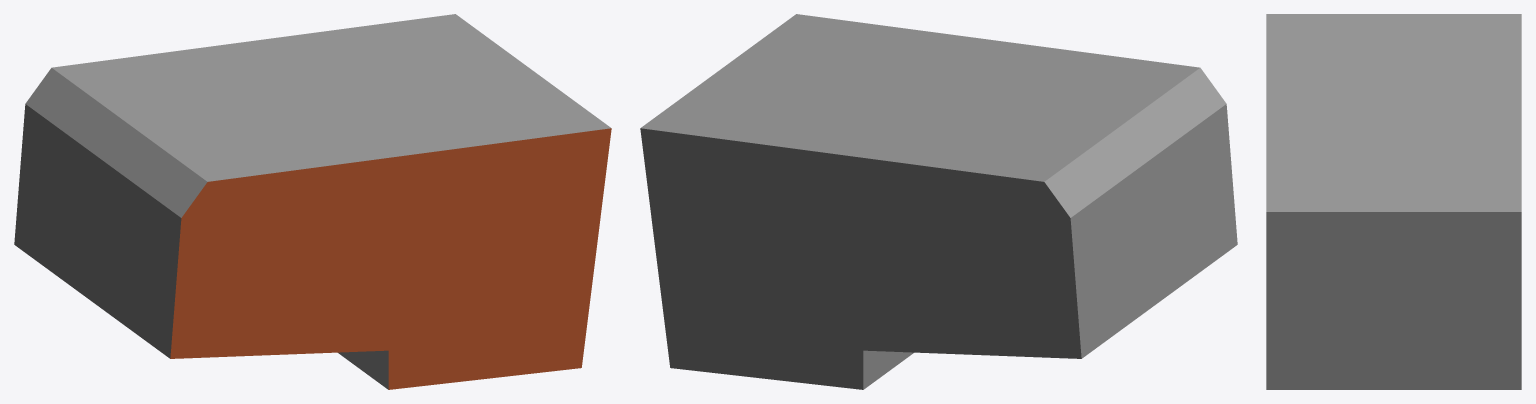
Rendered from construction_7181_assumed_A_Ruinas_h6m.obj.
3 renders of one model, left to right at view 1: azimuth 30°, elevation 25°; view 2: azimuth 150°, elevation 25°; view 3: azimuth 270°, elevation 25°, orthographic. The views are drawn at different scales.
Visible parts, largest first — view 1: construction_7181_assumed_A_Ruinas; view 2: construction_7181_assumed_A_Ruinas; view 3: construction_7181_assumed_A_Ruinas.
Part boxes in pixels (box(x1,y1,x2,y2)): construction_7181_assumed_A_Ruinas: box(14, 14, 611, 389); construction_7181_assumed_A_Ruinas: box(640, 14, 1237, 389); construction_7181_assumed_A_Ruinas: box(1266, 14, 1521, 389).
Size of the model in its own units: 9.8 by 5.88 by 6.
